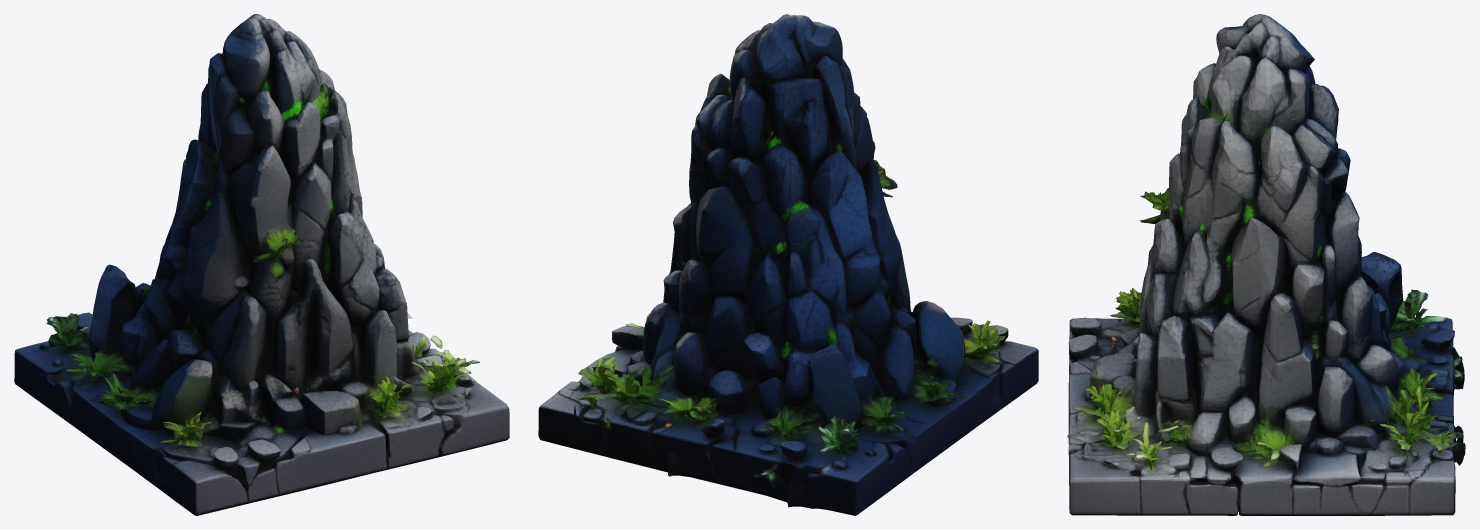
Rendered from roca_arrecife_2.glb.
The picture shows the model from 3 angles, left to right: view 1: azimuth 30°, elevation 25°; view 2: azimuth 150°, elevation 25°; view 3: azimuth 270°, elevation 25°; orthographic projection. The views are drawn at different scales.
Parts seen in each view (by area): view 1: world; view 2: world; view 3: world.
Boxes of the visible parts, <box> form: world: <box>14,14,509,515</box>; world: <box>538,14,1038,515</box>; world: <box>1067,14,1465,515</box>.
Bounding box in the file's own units: 0.8668 × 0.997 × 0.8596.
1 material, 1 textured.
